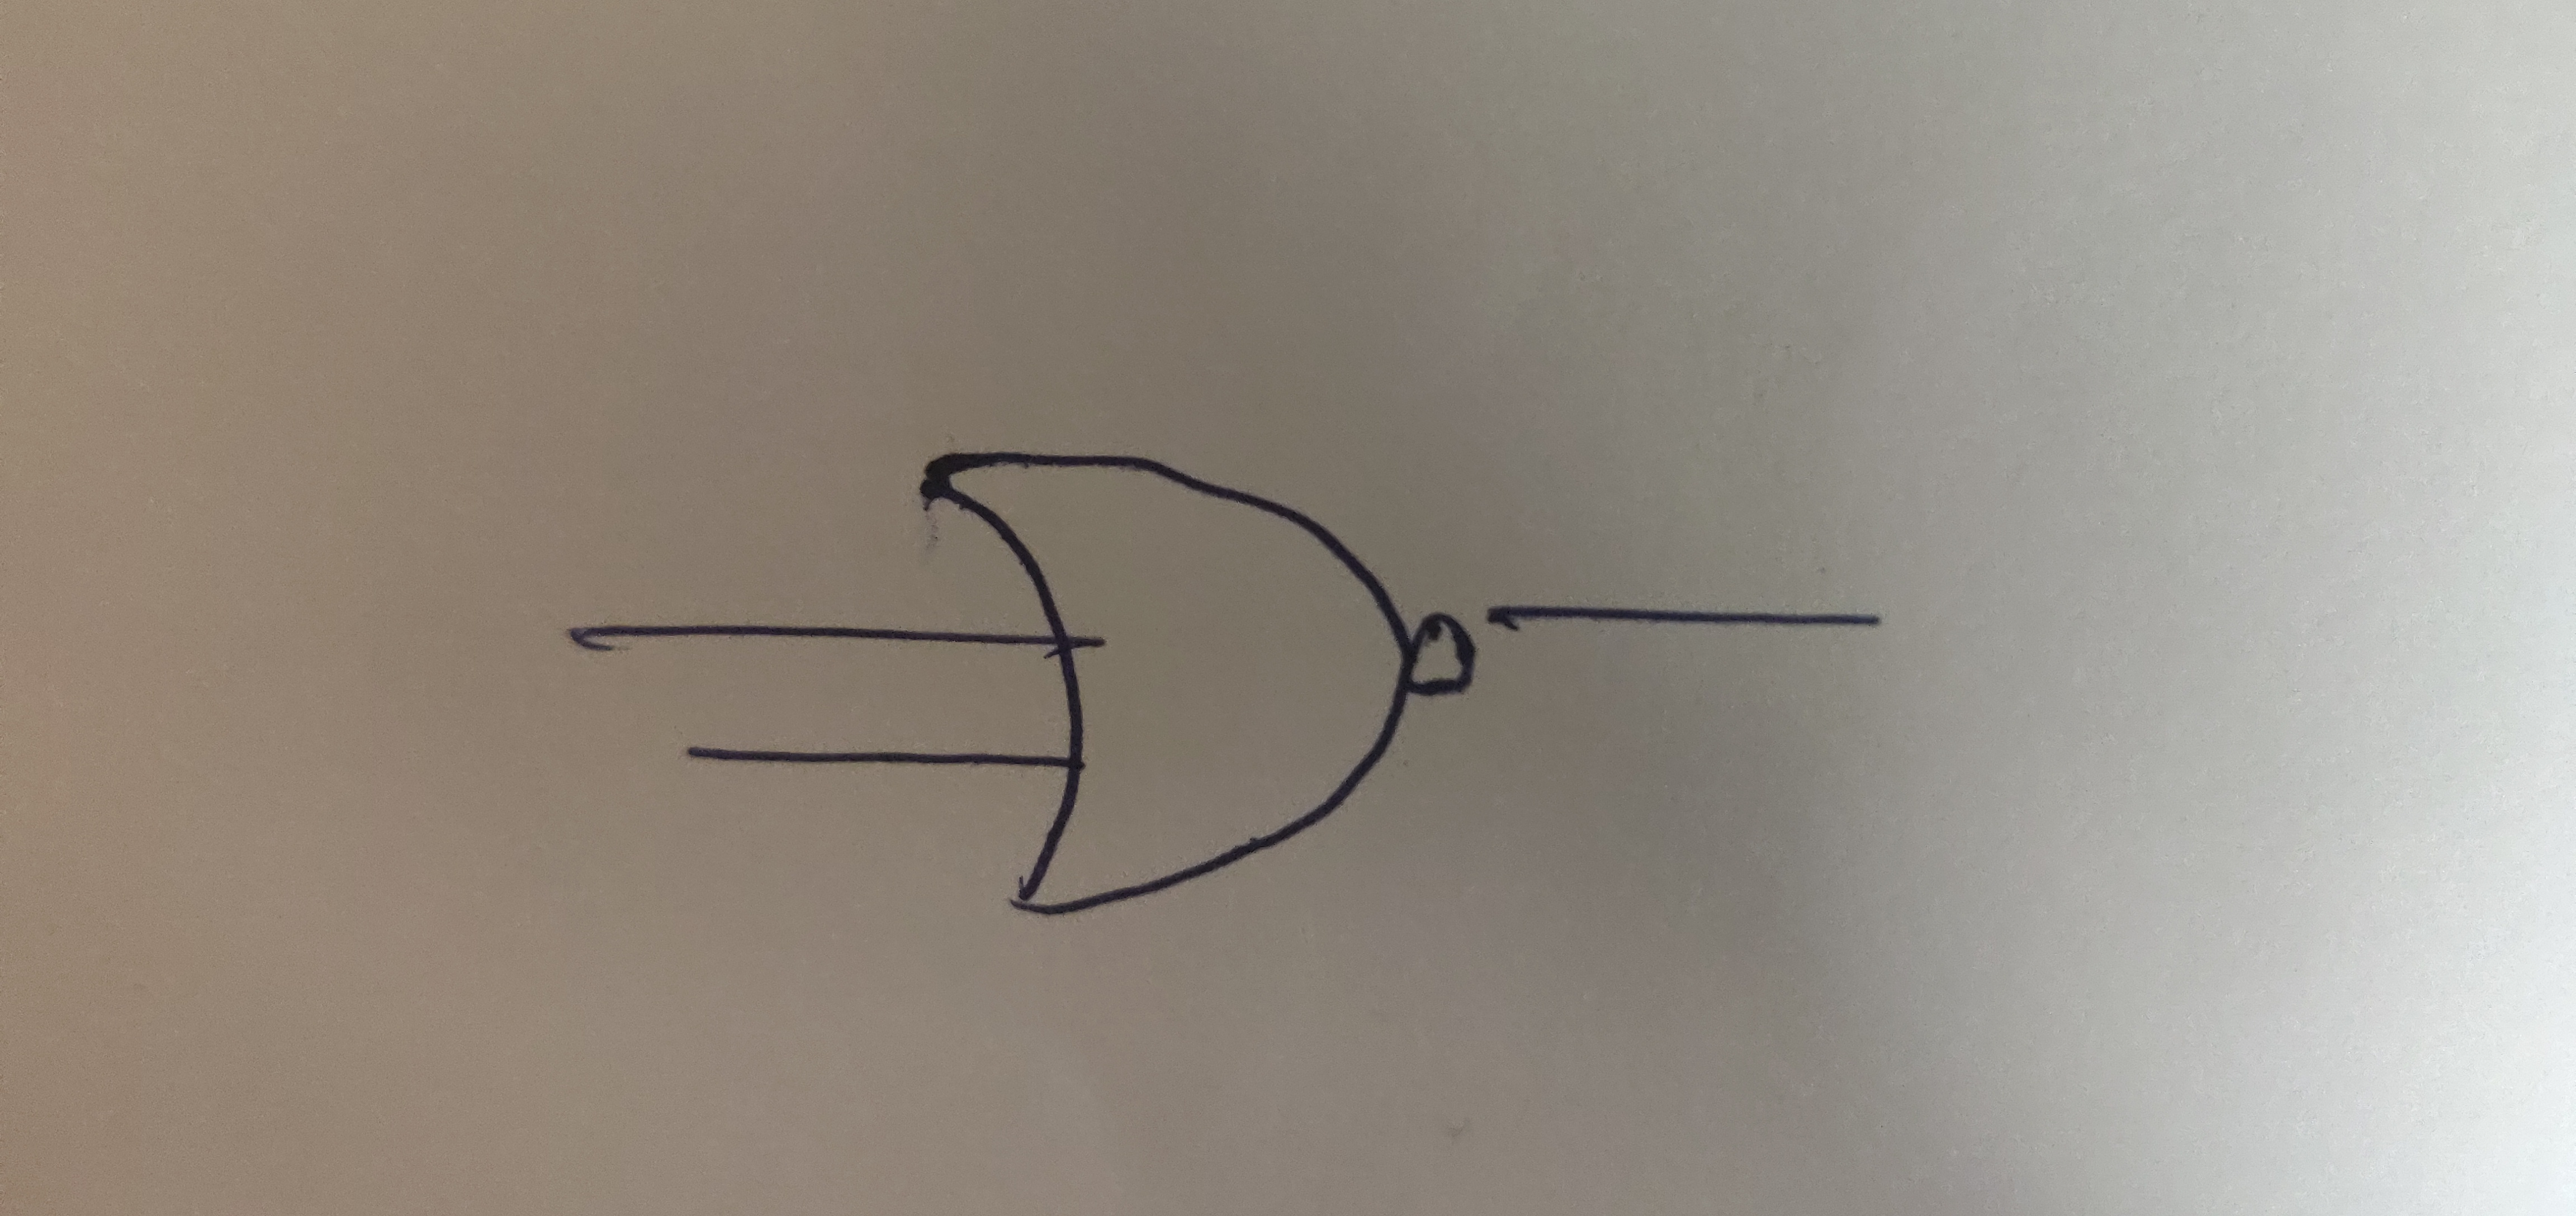nor: (864, 401, 1607, 966)
